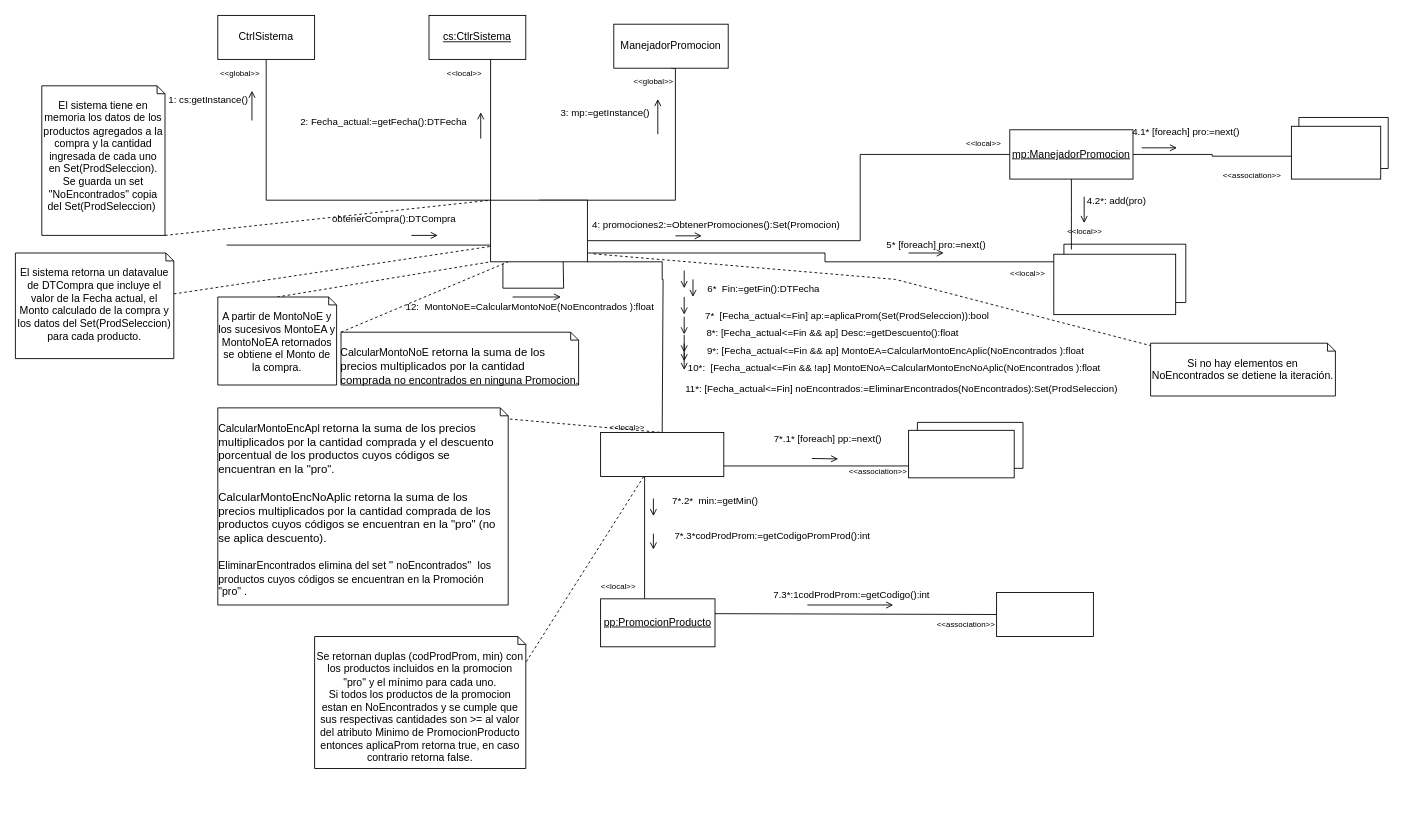
Some shapes in this 1404 by 831 pixel diagram are drawn without their labels. Here are the shapes that lost their labels. From the top down, the centre of each, then its label:
At point 1336,152: ": Promocion".
At point 538,230: ": CtrlCompra".
At point 1114,284: "promociones2:Promocion".
At point 662,454: "pro :Promocion".
At point 961,453: ": PromocionProducto".
At point 1044,614: "p:Producto".
